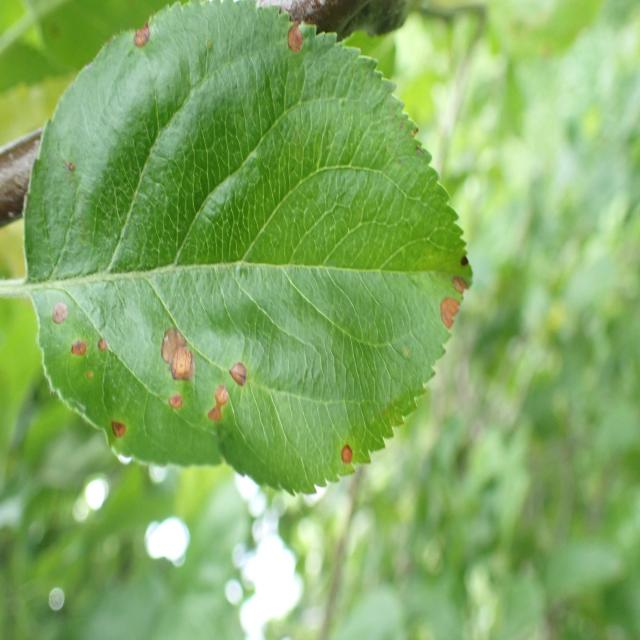Black Rot: (158, 320, 206, 387), (435, 265, 474, 344), (199, 380, 234, 432), (328, 429, 360, 482), (126, 16, 162, 55), (278, 21, 312, 60), (63, 327, 90, 372), (57, 156, 83, 199), (163, 393, 199, 424), (223, 361, 261, 388), (95, 318, 114, 364), (49, 303, 75, 334), (111, 412, 127, 448), (79, 364, 100, 388)
